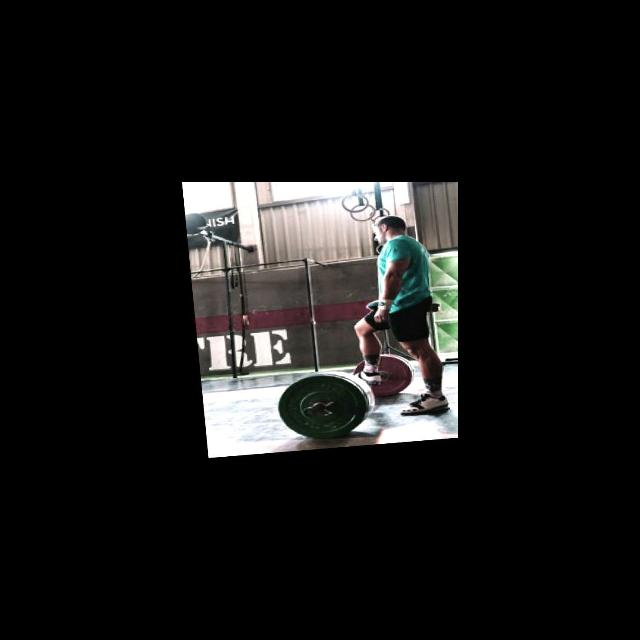barbell: (268, 372, 367, 447)
